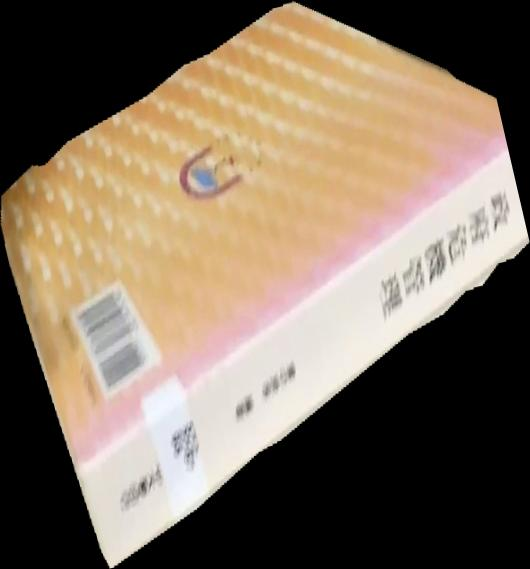flat: (1, 1, 530, 569)
